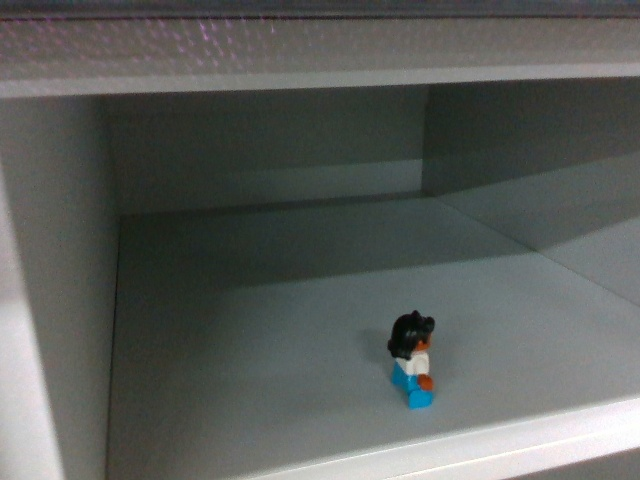people: (383, 307, 440, 412)
